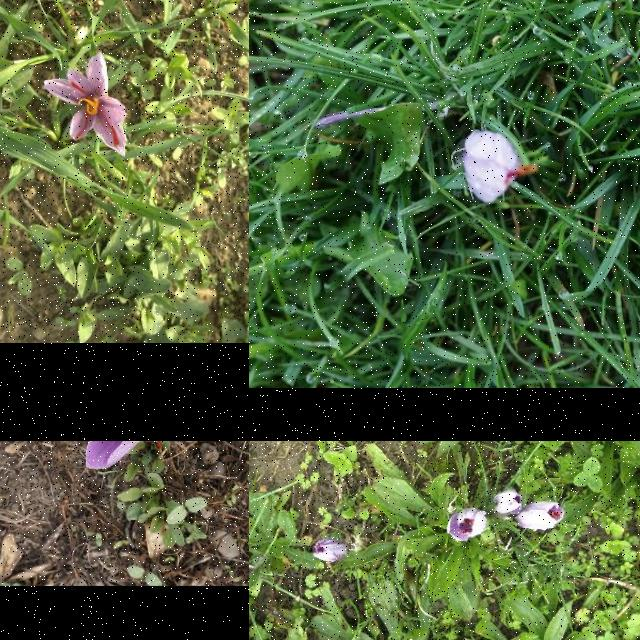flower: (44, 54, 128, 158), (460, 130, 540, 203), (72, 441, 162, 468), (517, 502, 565, 532), (448, 508, 488, 542), (314, 540, 350, 564), (495, 490, 525, 518)
